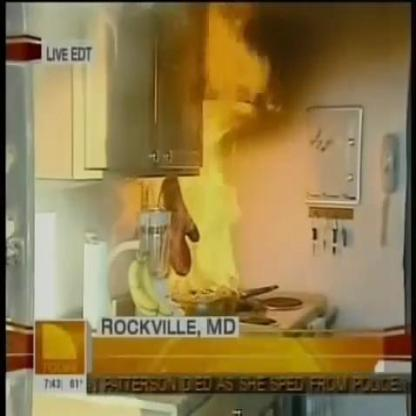fire: (174, 96, 245, 301)
